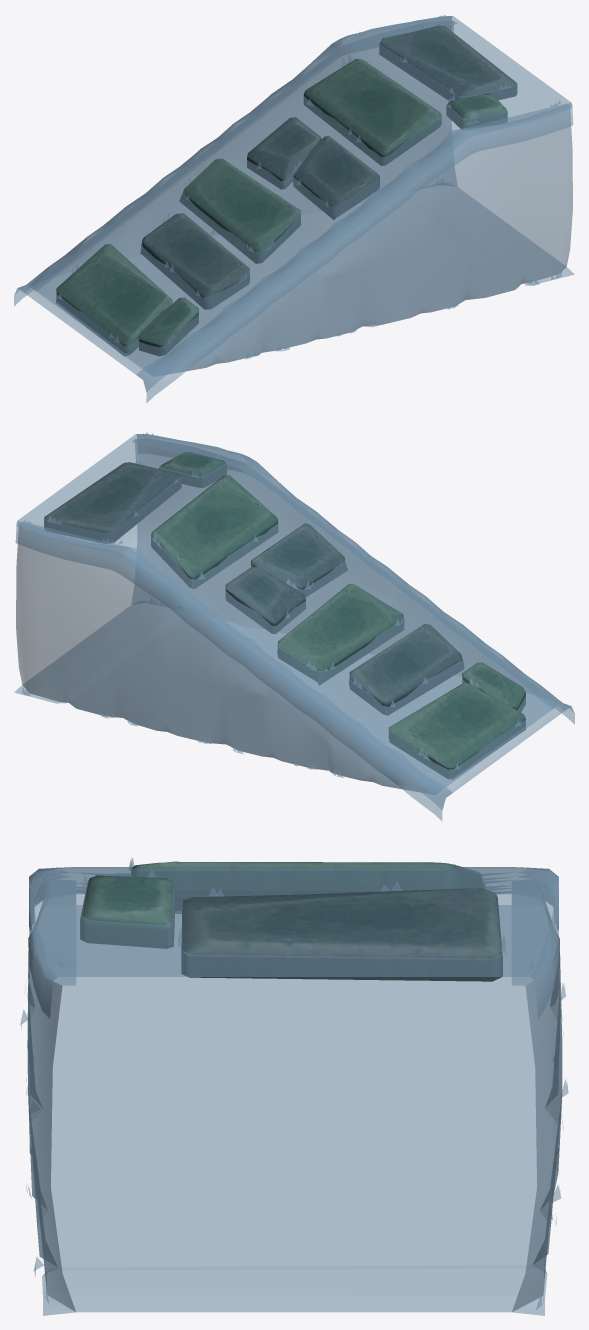
The model's file is stairs-natural.glb.
The picture shows the model from 3 angles, top to bottom: view 1: azimuth 30°, elevation 25°; view 2: azimuth 150°, elevation 25°; view 3: azimuth 270°, elevation 25°; orthographic projection. The views are drawn at different scales.
Bounding box in the file's own units: 40 × 17.65 × 22.
Materials: 5 (1 with a texture image).
